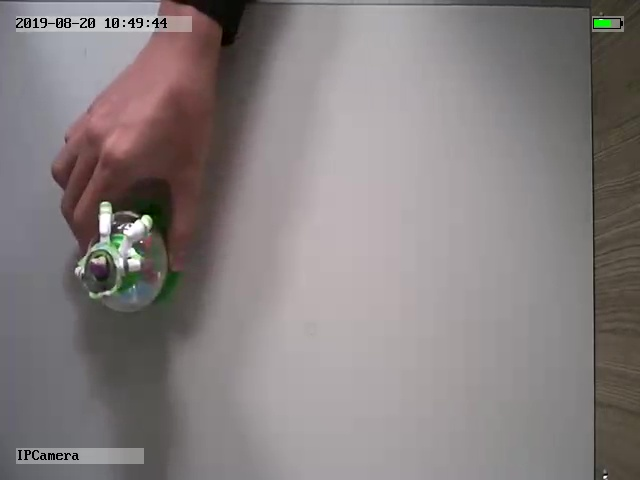buzz: (73, 199, 183, 315)
